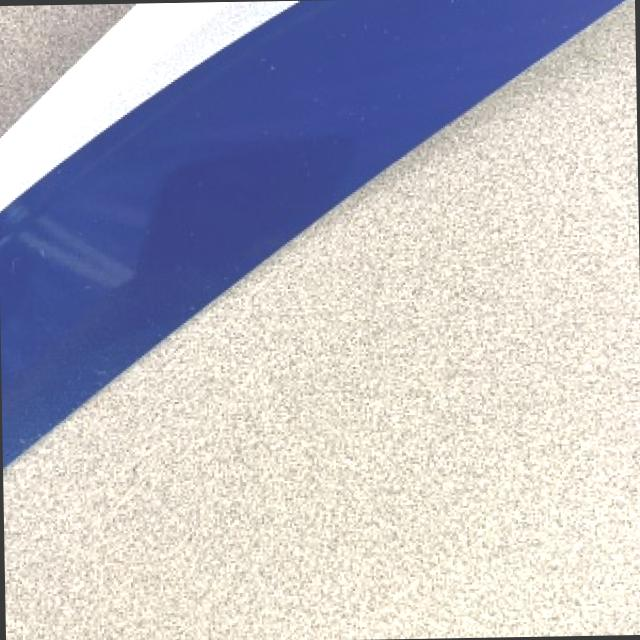healthy: (5, 5, 640, 575)
